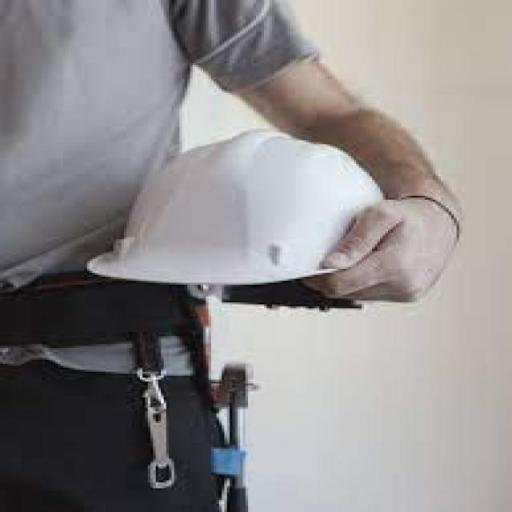helmet: (69, 108, 422, 294)
